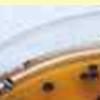black: (0, 76, 16, 94), (42, 80, 56, 94), (22, 59, 34, 72), (88, 63, 100, 73), (89, 71, 100, 81), (79, 72, 89, 81), (96, 92, 100, 100)
